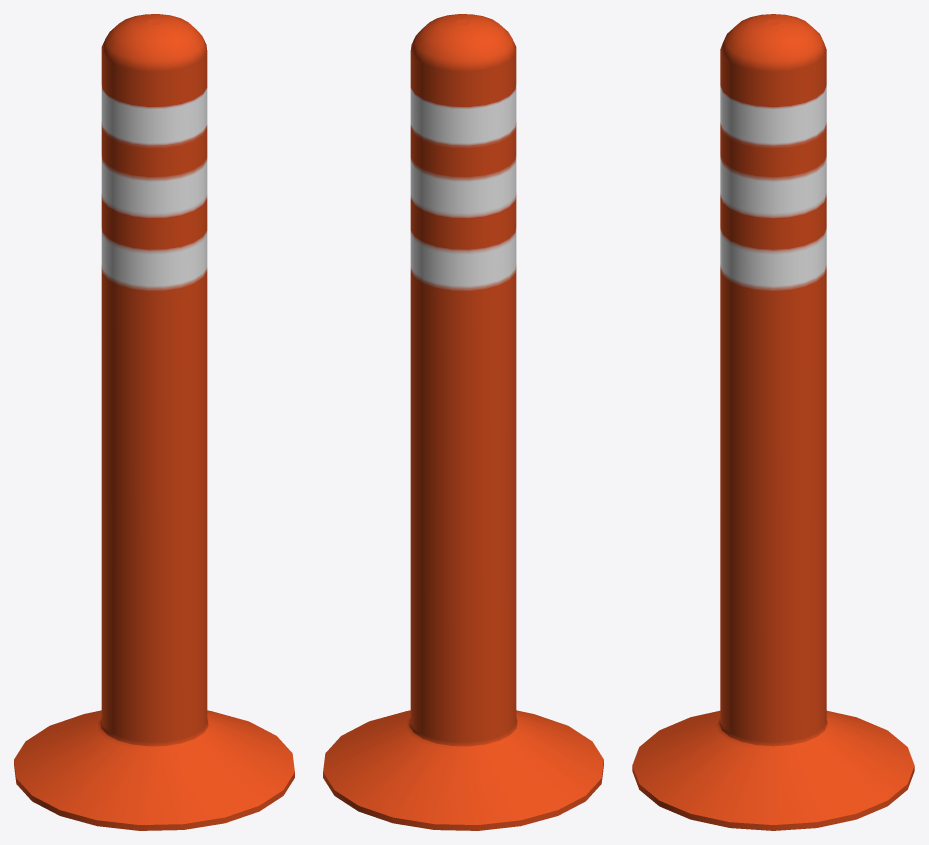
Rendered from pole_WHITEandORANGE.fbx.
3 views of the same model, side by side, from view 1: azimuth 30°, elevation 25°; view 2: azimuth 150°, elevation 25°; view 3: azimuth 270°, elevation 25° (orthographic).
Parts seen in each view (by area): view 1: pCylinder1; view 2: pCylinder1; view 3: pCylinder1.
Boxes of the visible parts, x1,y1,x2,y2 form: pCylinder1: (14,14,294,830); pCylinder1: (323,14,603,830); pCylinder1: (632,14,914,830).
Size of the model in its own units: 5.31 by 15.54 by 5.31.
1 material, 1 textured.
